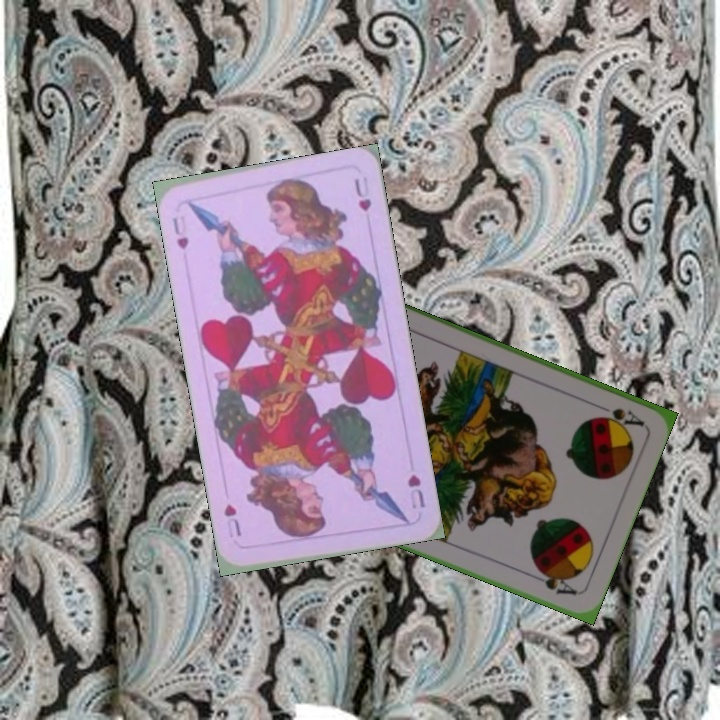HU: (403, 470, 428, 510), (169, 211, 191, 253)
SA: (595, 404, 646, 429)
